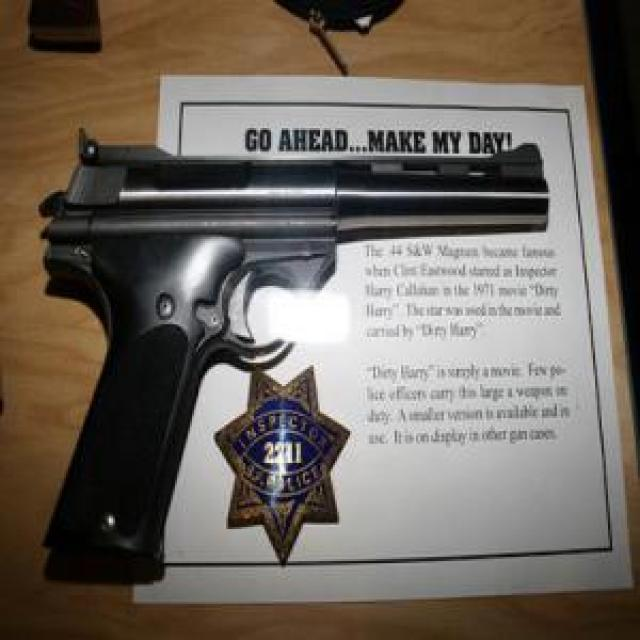pistol: (39, 126, 552, 582)
